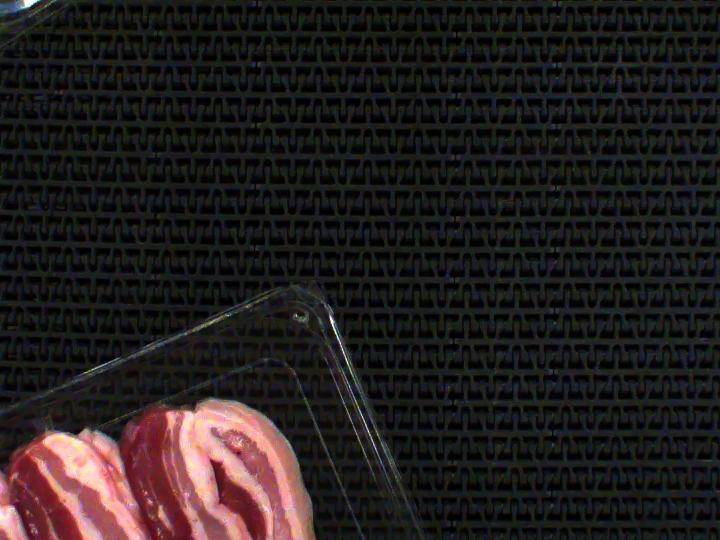packaging-error: (27, 414, 63, 438)
